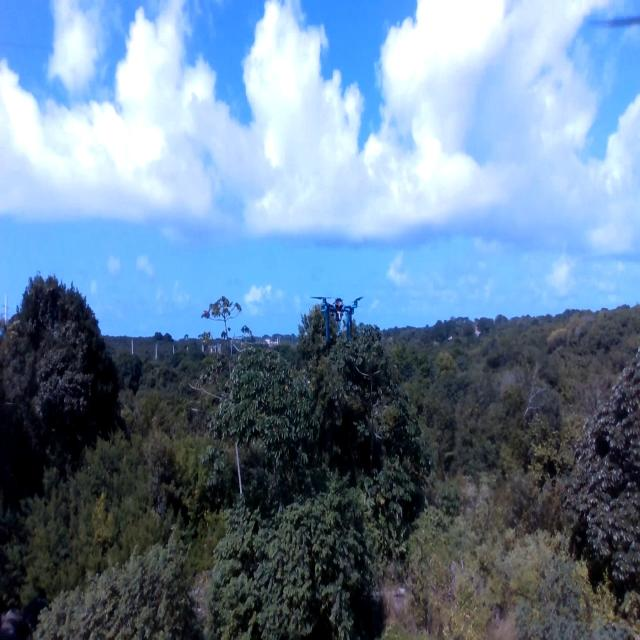-uav-: (313, 288, 364, 342)
